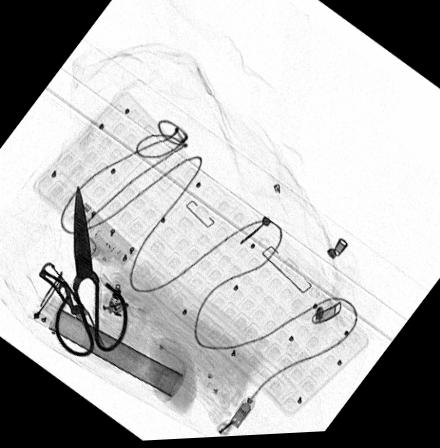Knife: (38, 263, 105, 350)
Scissors: (55, 185, 130, 359)
